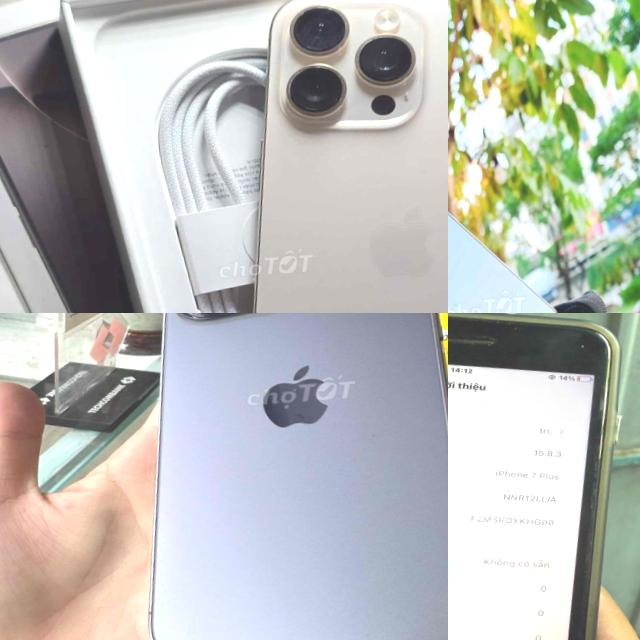scratch: (448, 314, 505, 355), (460, 313, 525, 338), (562, 332, 593, 353)
